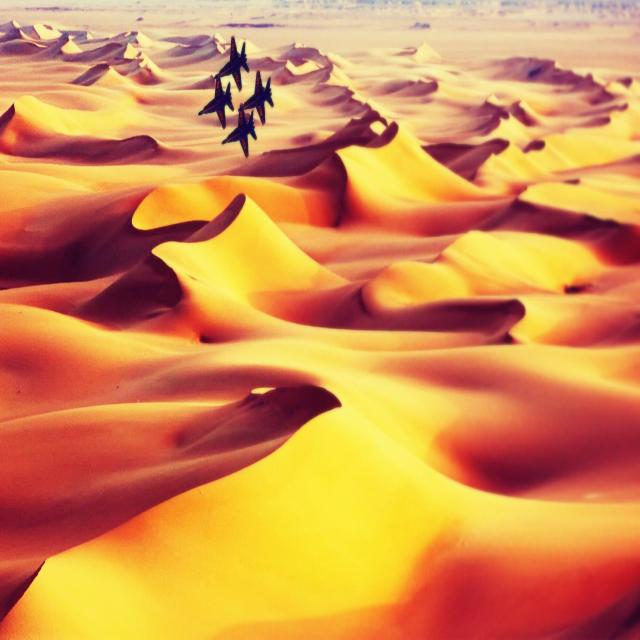airplane: (212, 34, 249, 91), (221, 104, 257, 158), (198, 79, 236, 128), (240, 70, 274, 124)
